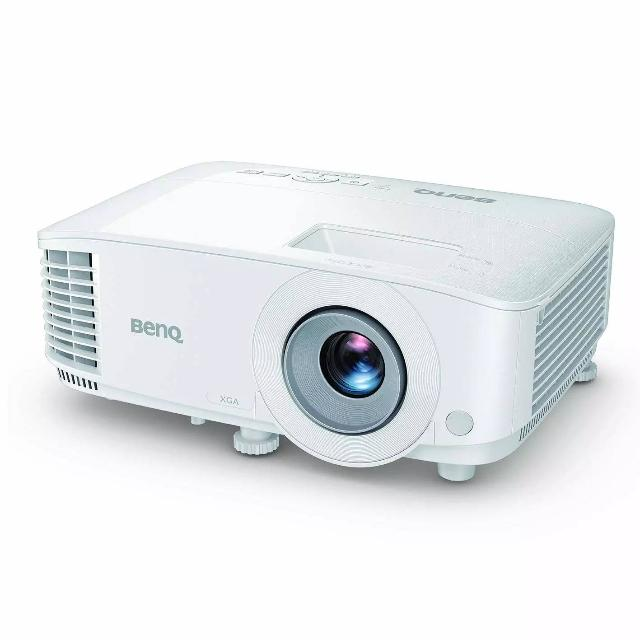Projector: (29, 152, 627, 482)
